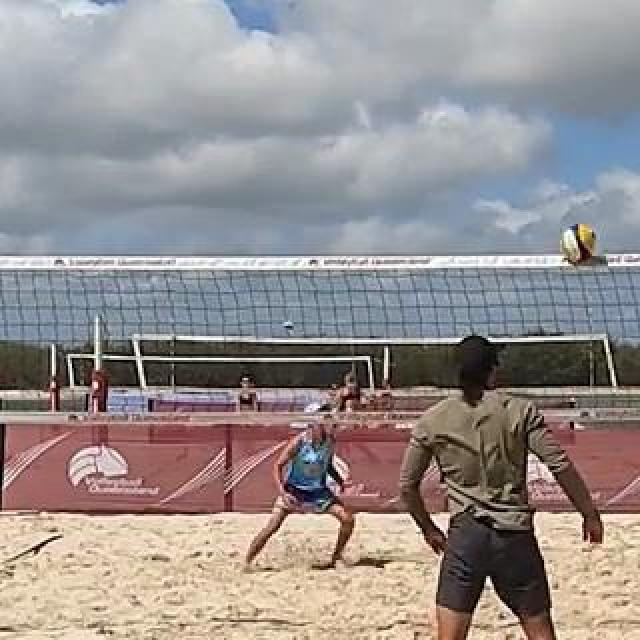volleyball: (560, 224, 596, 262)
